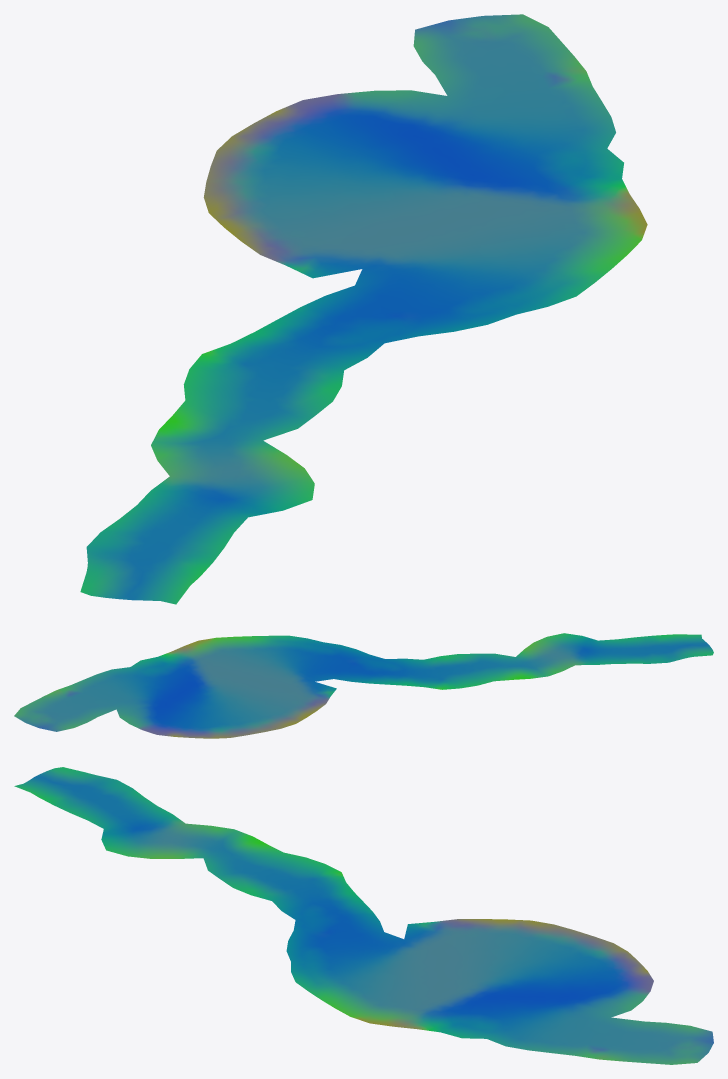
Rendered from SM_Sandbox_River.FBX.
The picture shows the model from 3 angles, top to bottom: view 1: azimuth 30°, elevation 25°; view 2: azimuth 150°, elevation 25°; view 3: azimuth 270°, elevation 25°; orthographic projection. The views are drawn at different scales.
Parts seen in each view (by area): view 1: SM_Sandbox_River; view 2: SM_Sandbox_River; view 3: SM_Sandbox_River.
Boxes of the visible parts, x1,y1,x2,y2 form: SM_Sandbox_River: (80,14,647,604); SM_Sandbox_River: (14,633,713,738); SM_Sandbox_River: (14,767,713,1064).
Bounding box in the file's own units: 2766 × 2724 × 10.42.
